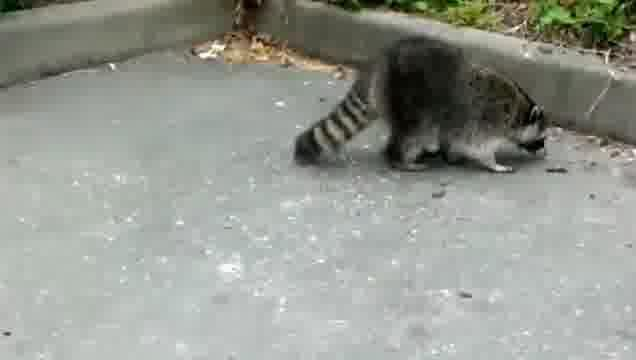raccoon: (293, 34, 550, 177)
